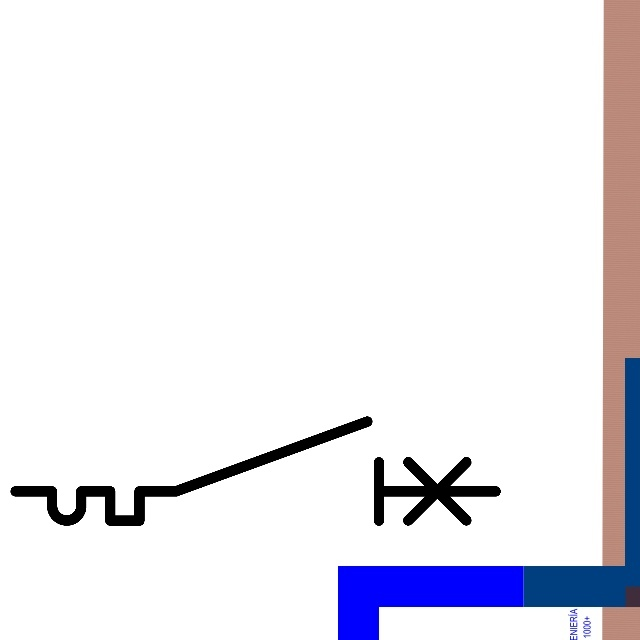interruptor_termomagnetico: (3, 409, 508, 533)
